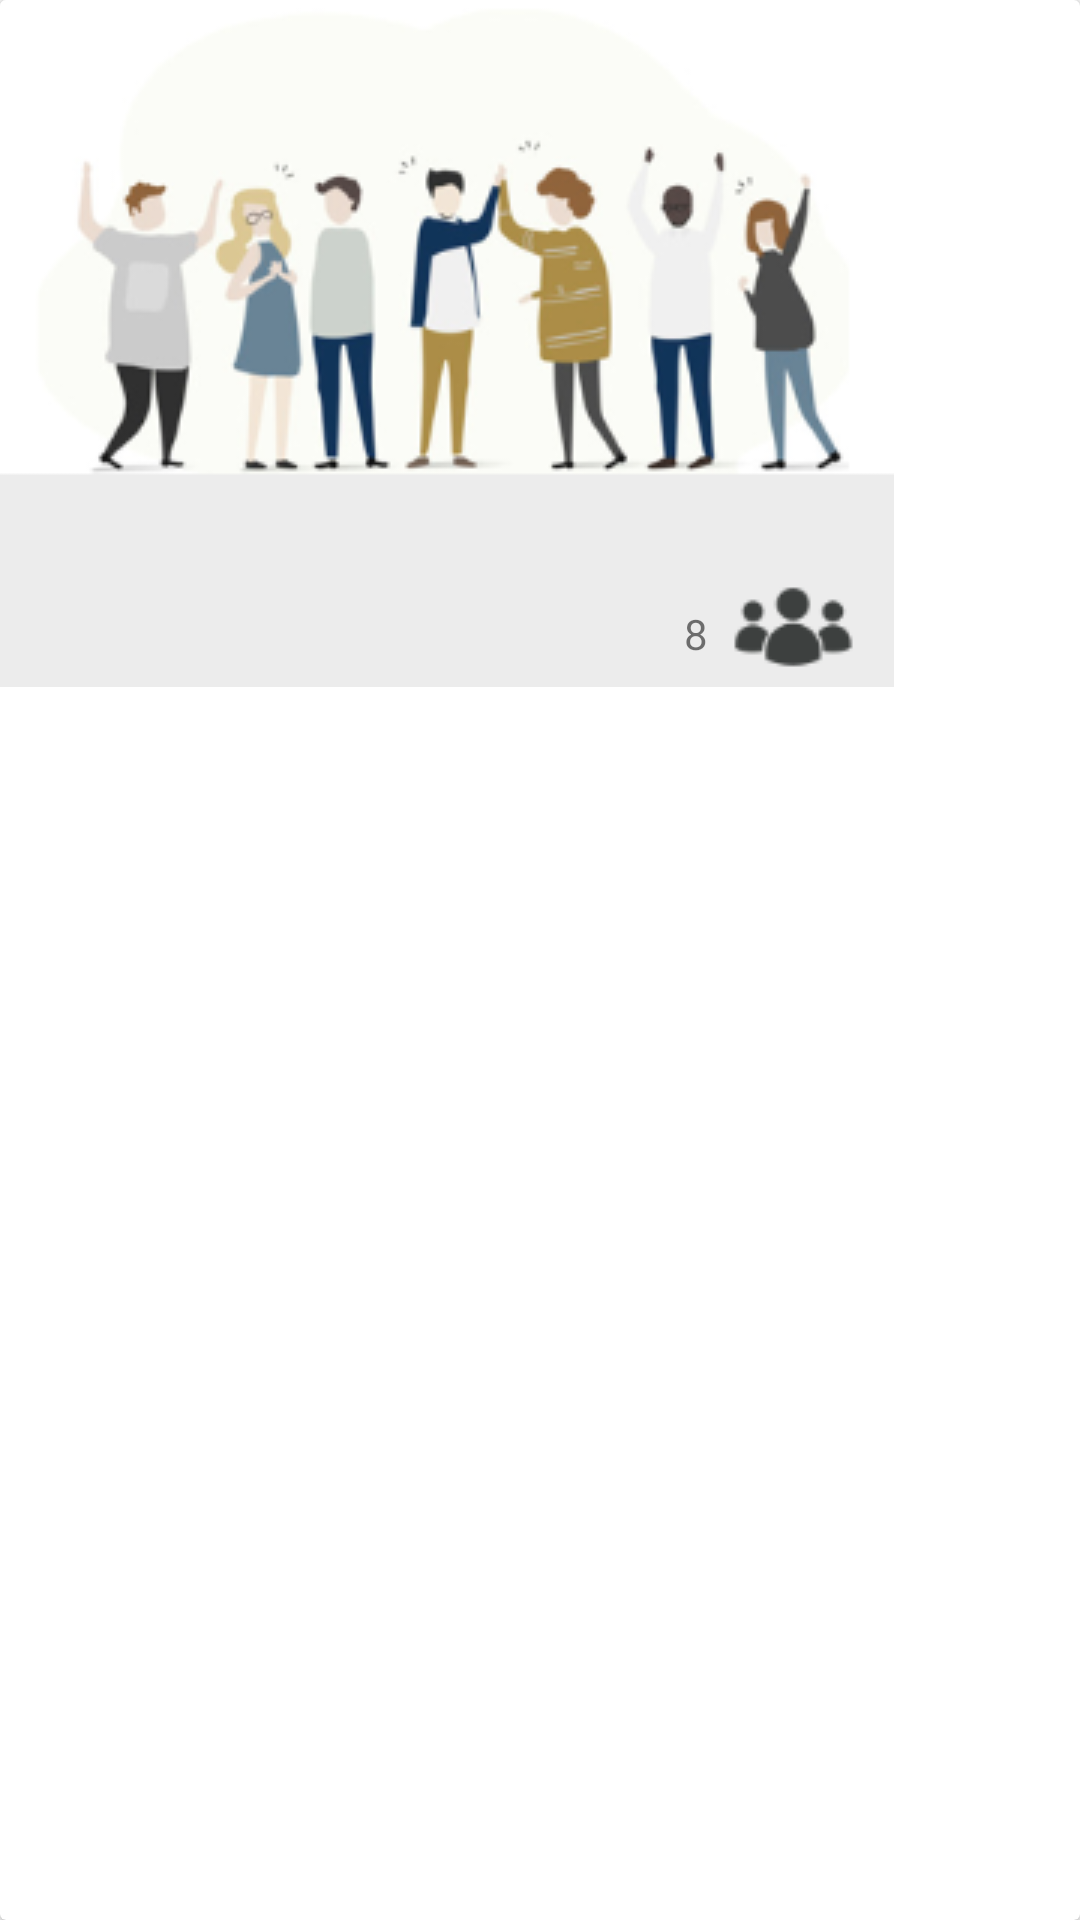

Icons on this 1080px x 1920px Android screen, each with the point to tap as point (x, y):
people: point (793, 627)
